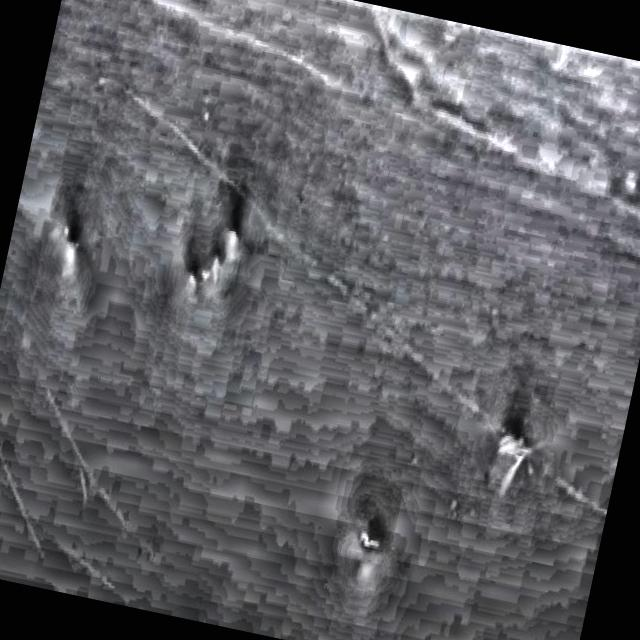dent: (472, 367, 552, 490), (178, 206, 253, 316), (32, 186, 108, 270), (344, 504, 394, 566)
